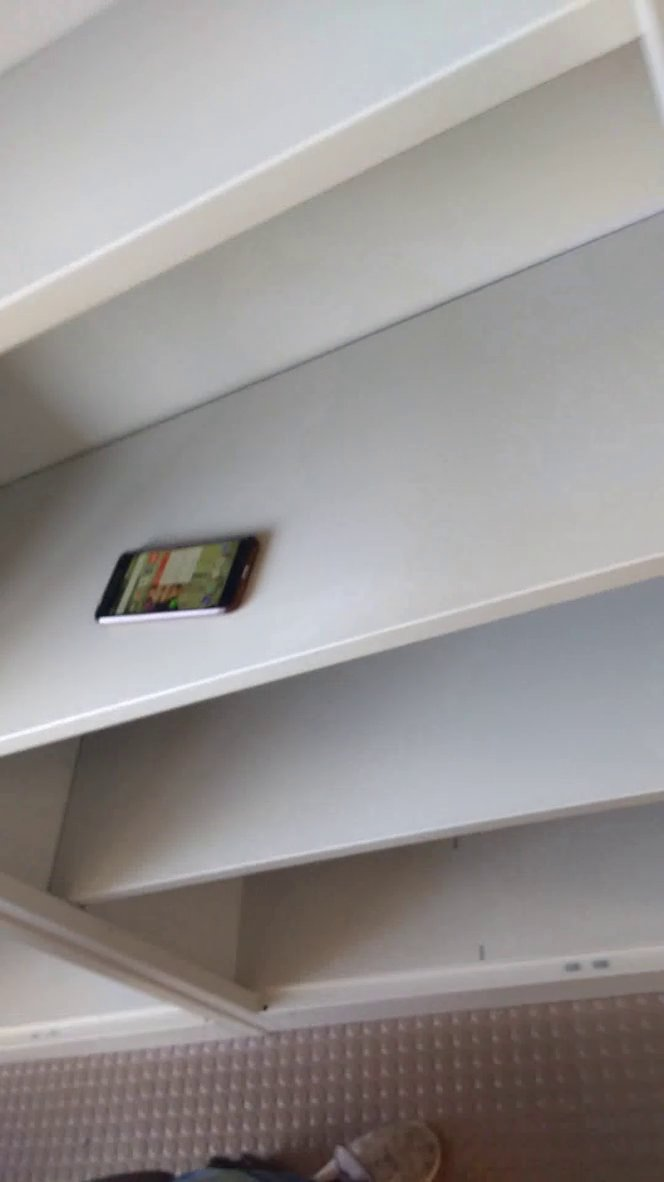phone: (84, 522, 270, 637)
